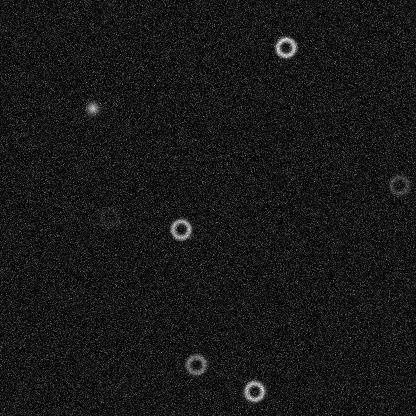Ring: (242, 379, 266, 403), (183, 352, 207, 376), (386, 173, 410, 197), (168, 217, 192, 241), (273, 35, 297, 59), (97, 205, 121, 229)
Spot: (84, 100, 100, 116)
